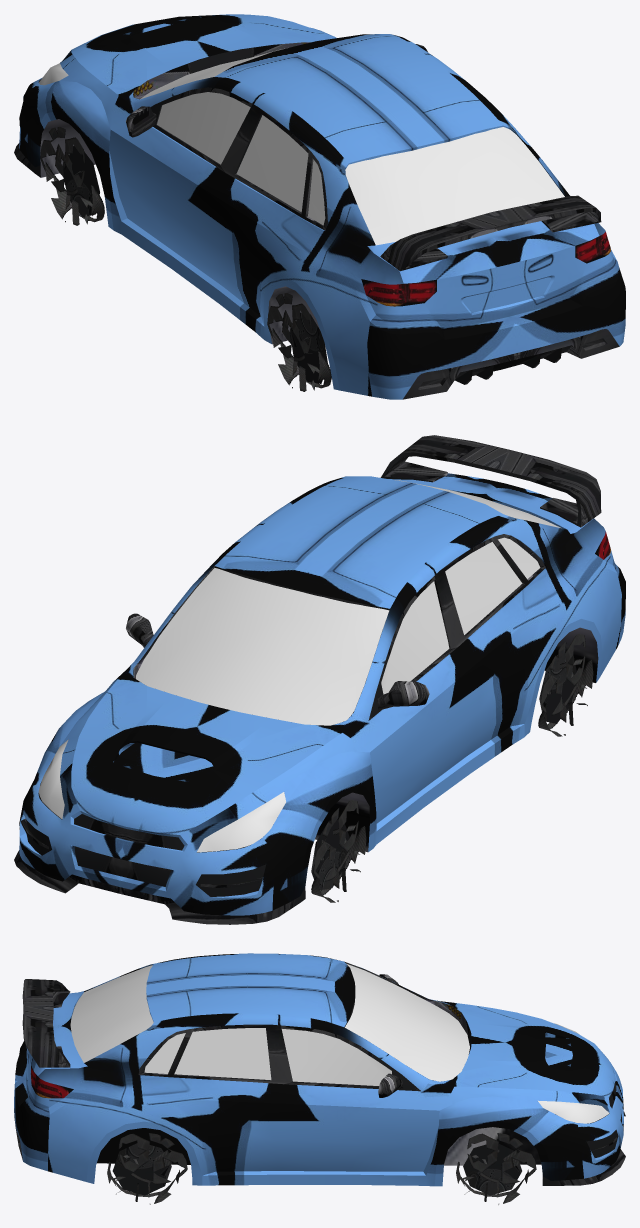
The model's file is car1.glb.
3 renders of one model, top to bottom at view 1: azimuth 30°, elevation 25°; view 2: azimuth 150°, elevation 25°; view 3: azimuth 270°, elevation 25°, orthographic. The views are drawn at different scales.
Visible parts, largest first — view 1: Car1; view 2: Car1; view 3: Car1.
Part boxes in pixels (x1=…): Car1: x1=14, y1=14, x2=625, y2=399; Car1: x1=14, y1=435, x2=625, y2=924; Car1: x1=14, y1=953, x2=625, y2=1204.
Bounding box in the file's own units: 1.98 × 1.49 × 4.53.
5 materials, 4 textured.
